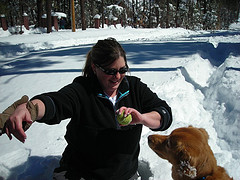tennis ball: (114, 108, 134, 126)
